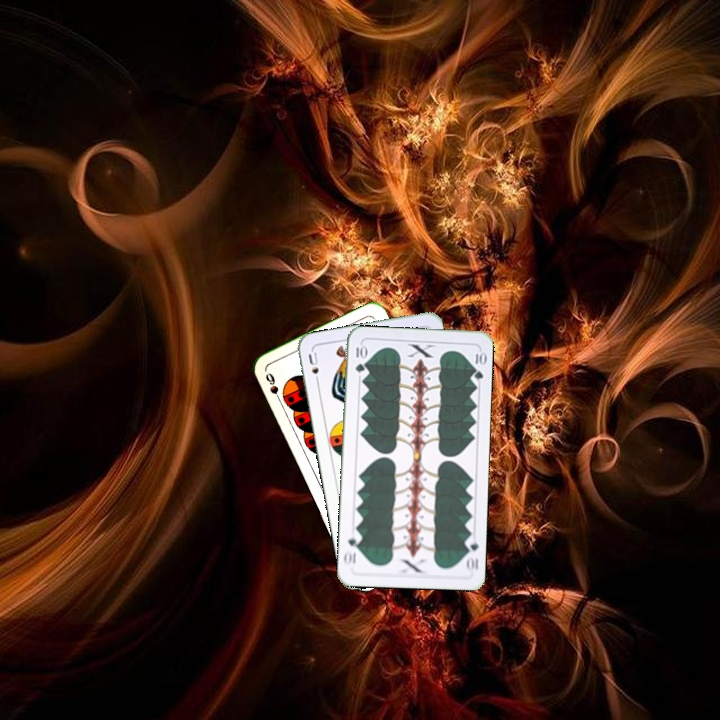G10: (461, 533, 481, 574), (351, 341, 367, 375)
S9: (261, 368, 284, 406)
SU: (304, 348, 322, 388)
